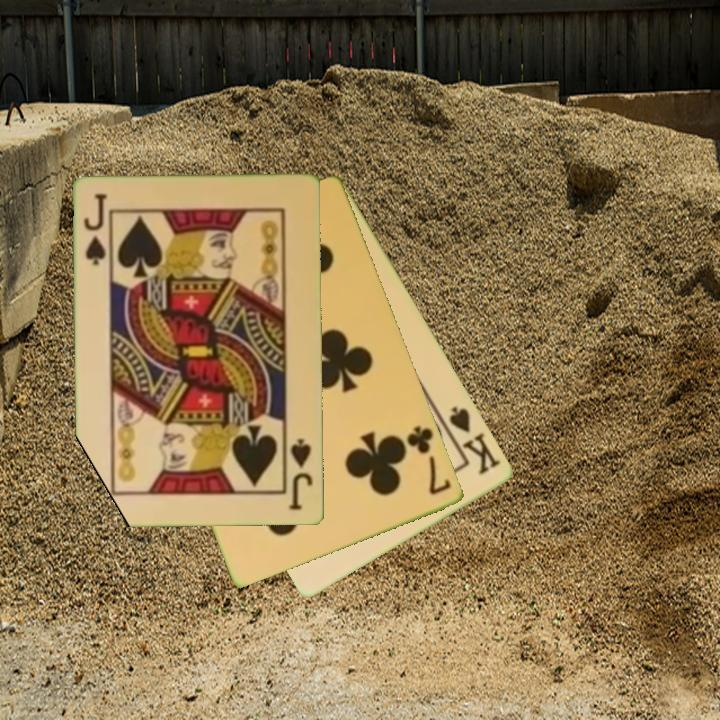7c: (403, 422, 455, 498)
Js: (80, 190, 111, 268), (286, 435, 316, 514)
Ks: (438, 403, 504, 478)
